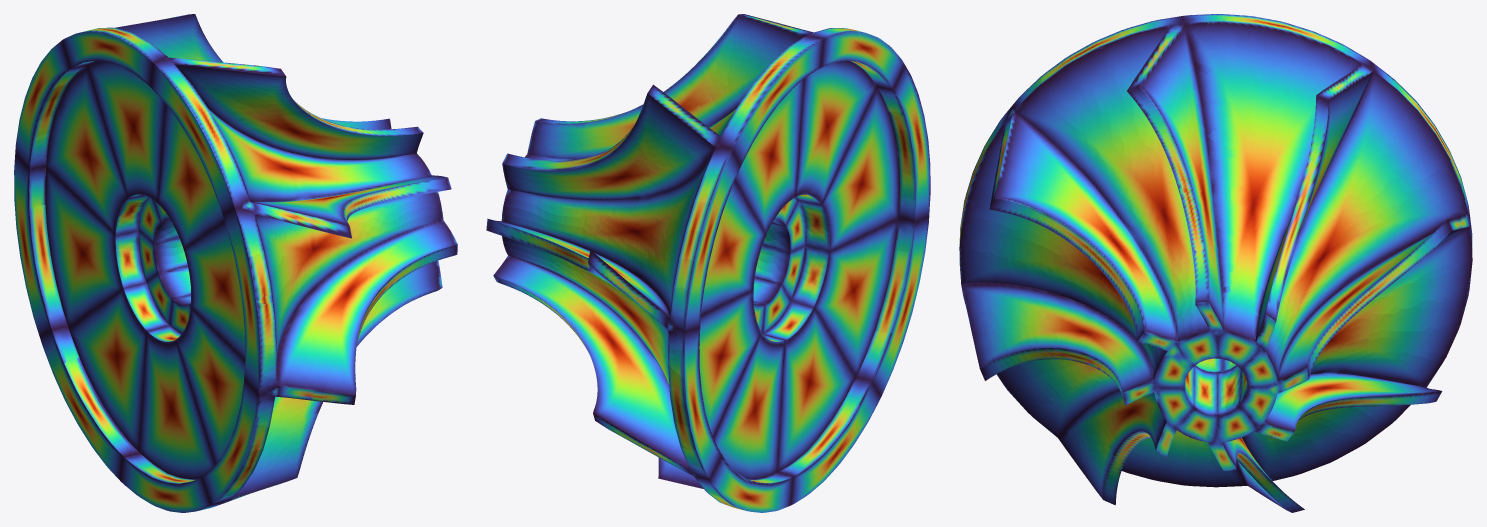
File: gen0.glb
3 renders of one model, left to right at view 1: azimuth 30°, elevation 25°; view 2: azimuth 150°, elevation 25°; view 3: azimuth 270°, elevation 25°, orthographic. The views are drawn at different scales.
Parts seen in each view (by area): view 1: Node; view 2: Node; view 3: Node.
Part boxes in pixels (x1=…): Node: x1=14, y1=14, x2=457, y2=512; Node: x1=486, y1=14, x2=930, y2=512; Node: x1=959, y1=14, x2=1472, y2=512.
Bounding box in the file's own units: 1.29 × 2 × 2.
Materials: 1 (1 with a texture image).
